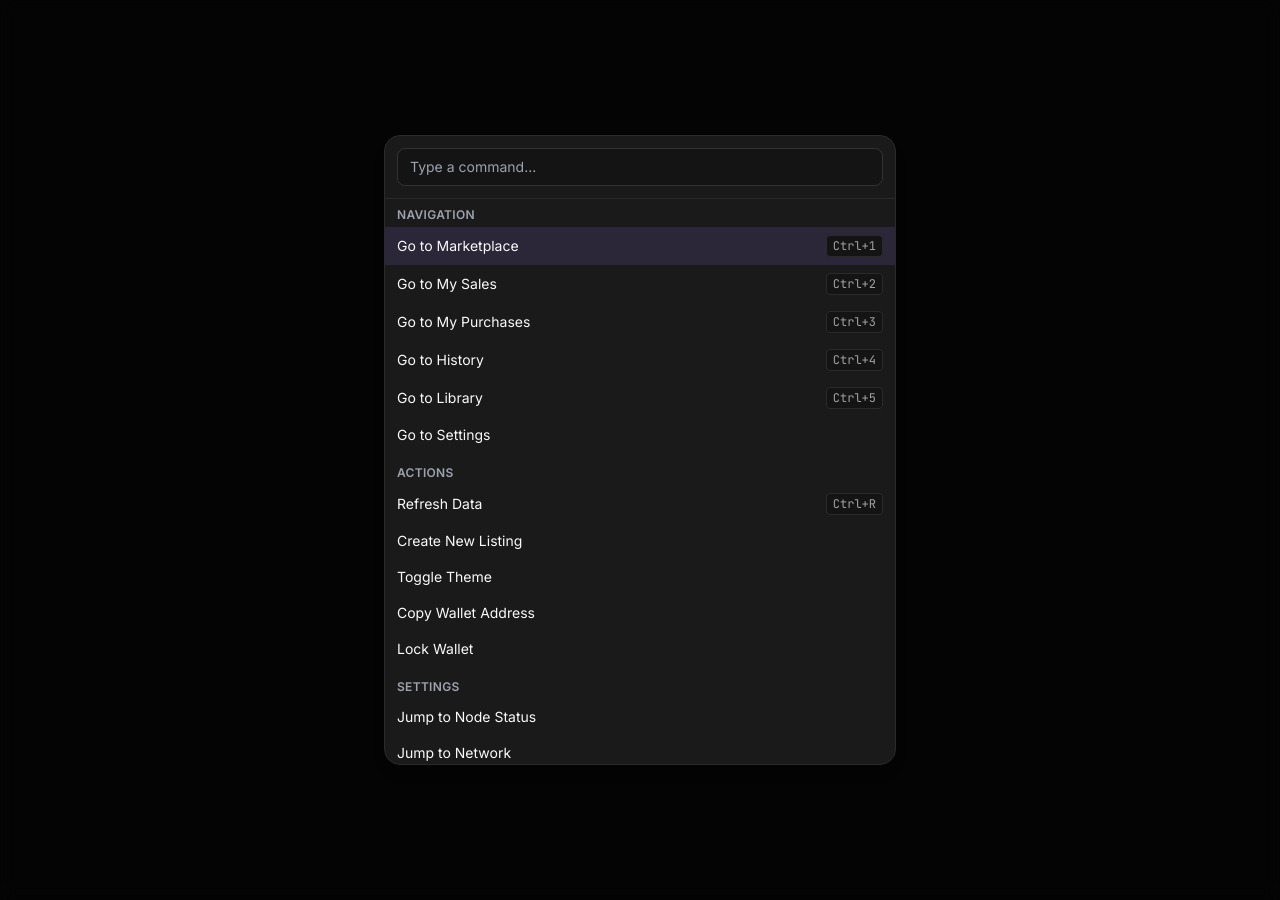
Test: CommandPalette › filters commands as user types
Type "marketplace" into the field with placeholder "Type a command...".
click(640, 167); type("marketplace")  # box [397,148,883,186]
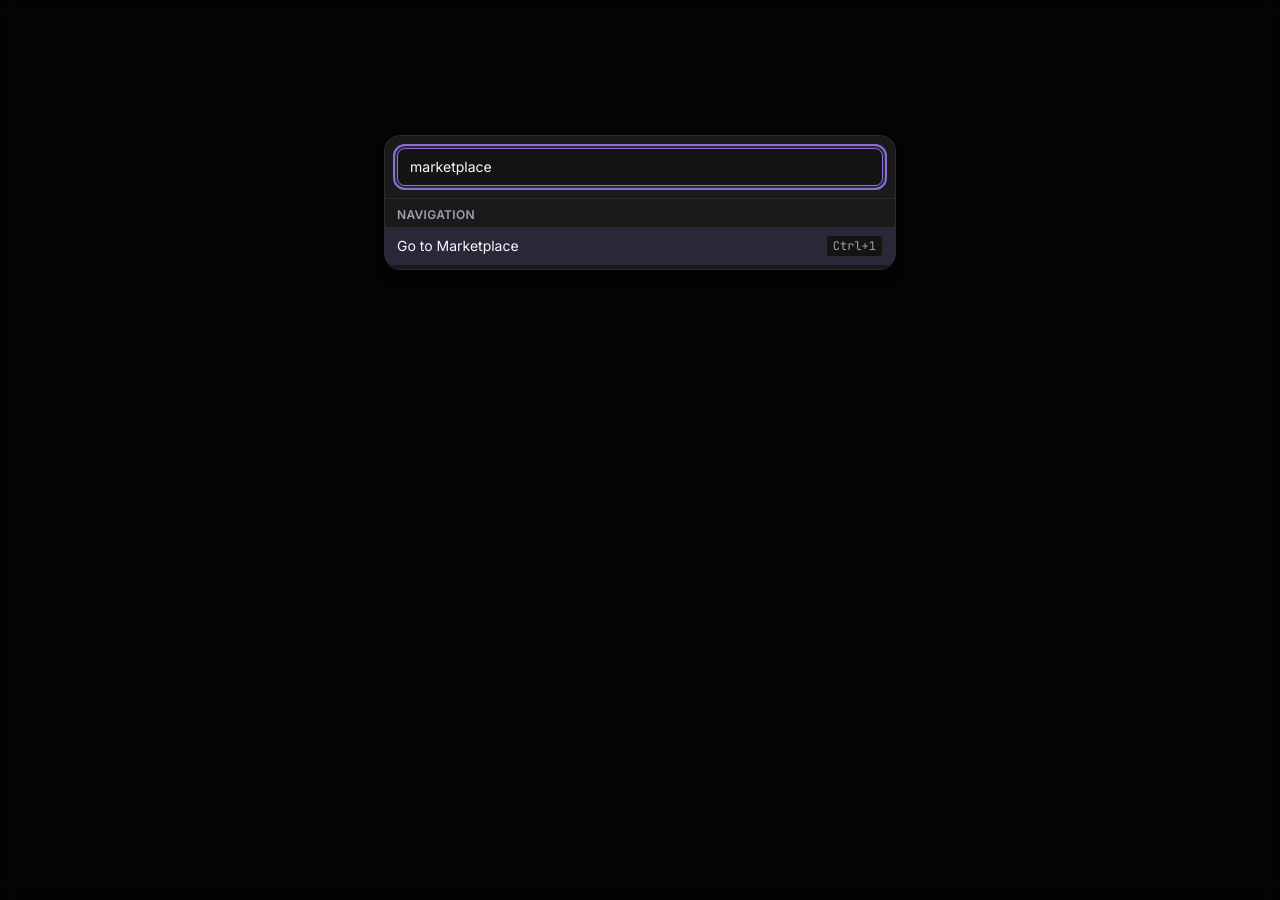
Check: the text "Go to Marketplace" is shown, box [397,236,519,256]
Check: the button "Toggle Theme" is gone
